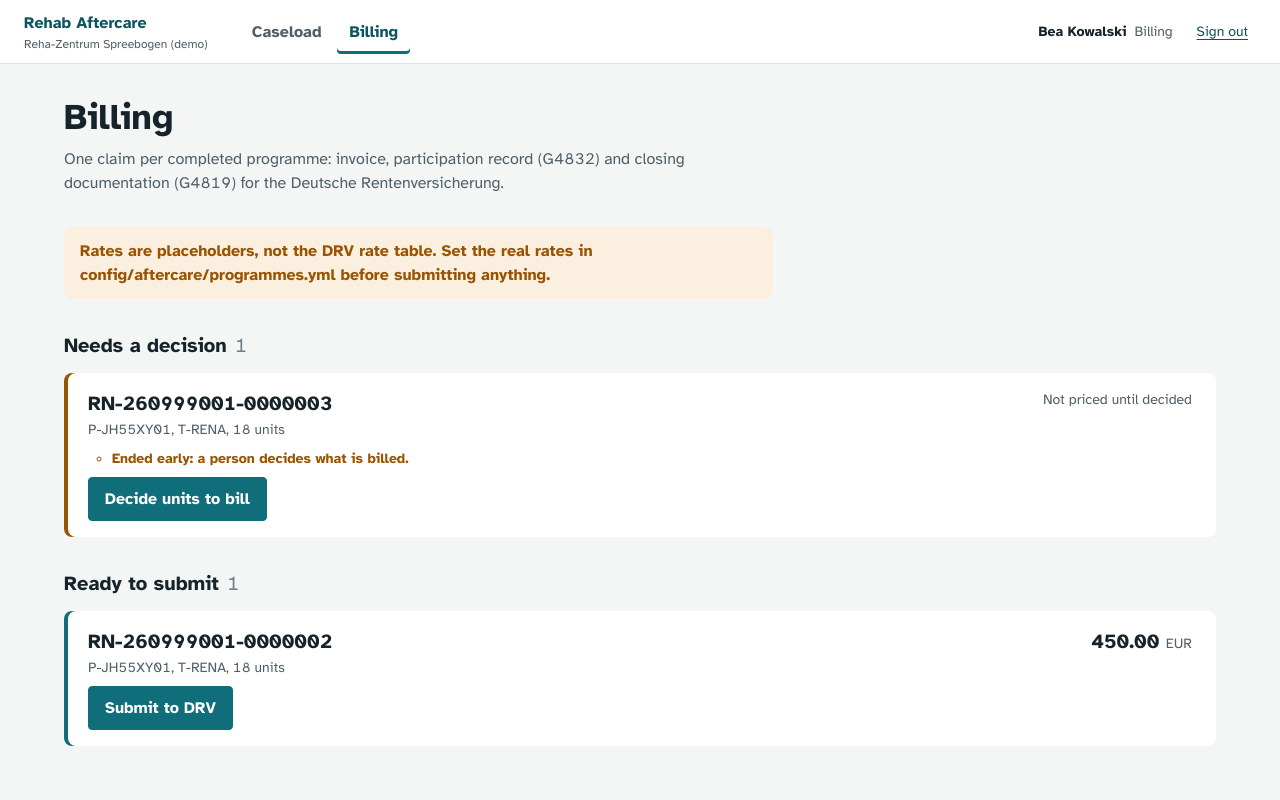
Test case: Billing › groups claims by what billing has to do, warns about placeholder rates, and submits
The image size is (1280, 800).
Check: the text "Rates are placeholders" is shown, box [80,241,593,285]
Check: the headings read "Needs a decision 1", "Ready to submit 1", in this order, box [64,333,248,358]; [64,571,240,596]
Click the button "Submit to DRV": (160, 708) [88,686,233,730]
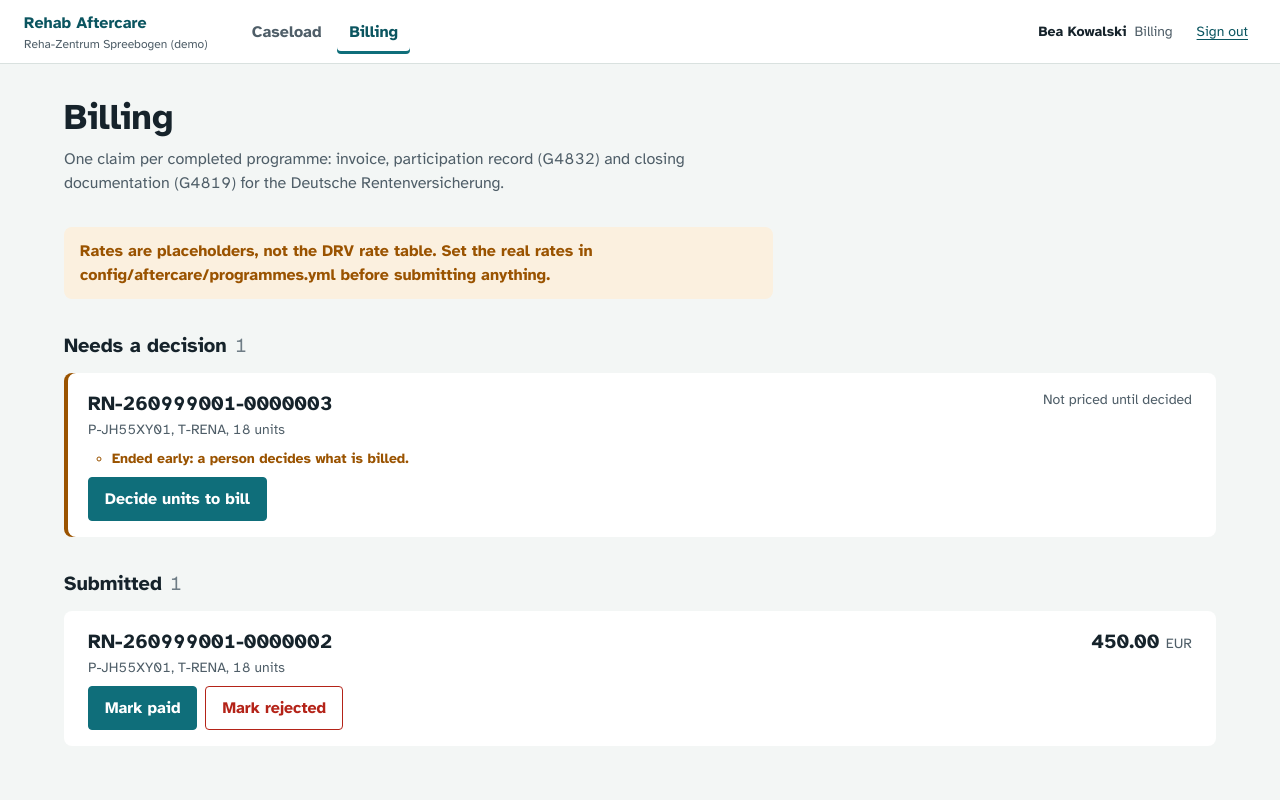
Check: the element "Submitted" is shown, box [64,569,1216,746]
